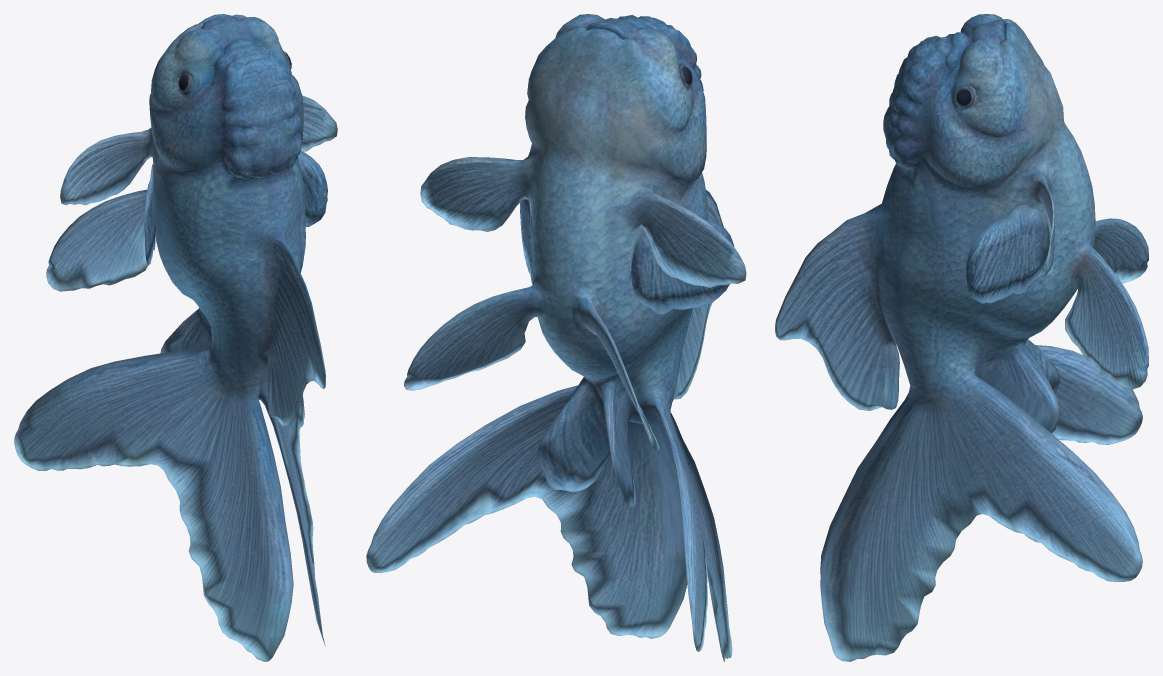
File: Oranda_goldfish_3d_model.fbx
3 renders of one model, left to right at view 1: azimuth 30°, elevation 25°; view 2: azimuth 150°, elevation 25°; view 3: azimuth 270°, elevation 25°, orthographic. The views are drawn at different scales.
Visible parts, largest first — view 1: tripo_node_95bbddab-4689-4a0f-a055-70eacfa9dc1f; view 2: tripo_node_95bbddab-4689-4a0f-a055-70eacfa9dc1f; view 3: tripo_node_95bbddab-4689-4a0f-a055-70eacfa9dc1f.
Boxes of the visible parts, box(x1,y1,x2,y2) form: tripo_node_95bbddab-4689-4a0f-a055-70eacfa9dc1f: box(14, 14, 337, 661); tripo_node_95bbddab-4689-4a0f-a055-70eacfa9dc1f: box(366, 14, 746, 661); tripo_node_95bbddab-4689-4a0f-a055-70eacfa9dc1f: box(775, 14, 1148, 661).
Size of the model in its own units: 0.4998 by 1 by 0.5457.
